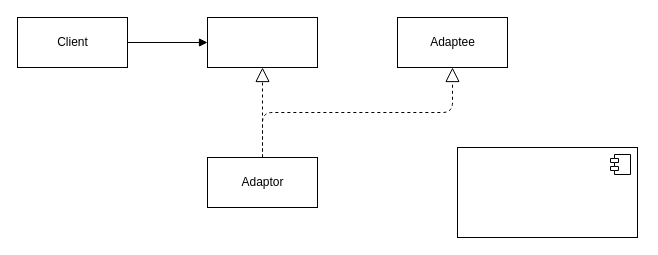
Some shapes in this 658 by 255 pixel diagram are drawn without their labels. Each missing label, with the centre of its shape:
"l类适配器，继承借口， 关联实现， 不推荐使用， 1 继承了一个具体 类，紧耦合， 2有的语言不支持 多继承" goes at pixel 547 192.
"«interface» Target" goes at pixel 262 42.
